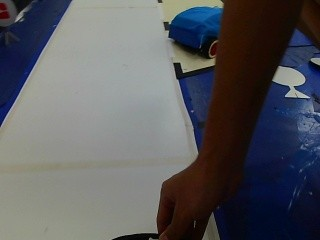car: (156, 9, 222, 60)
